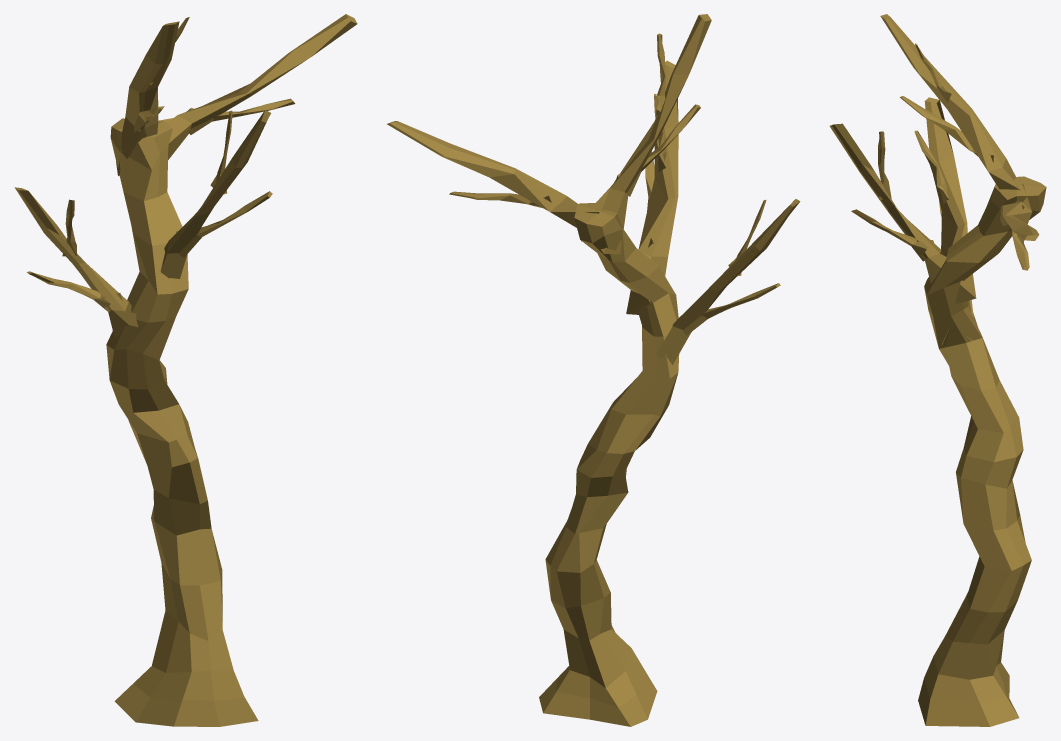
File: dead tree.fbx
3 renders of one model, left to right at view 1: azimuth 30°, elevation 25°; view 2: azimuth 150°, elevation 25°; view 3: azimuth 270°, elevation 25°, orthographic. The views are drawn at different scales.
Parts seen in each view (by area): view 1: Cube.017; view 2: Cube.017; view 3: Cube.017.
Boxes of the visible parts, left/top/right/bottom form: Cube.017: left=14, top=14, right=357, bottom=726; Cube.017: left=387, top=14, right=800, bottom=726; Cube.017: left=829, top=14, right=1046, bottom=726.
Bounding box in the file's own units: 426 × 763 × 227.
